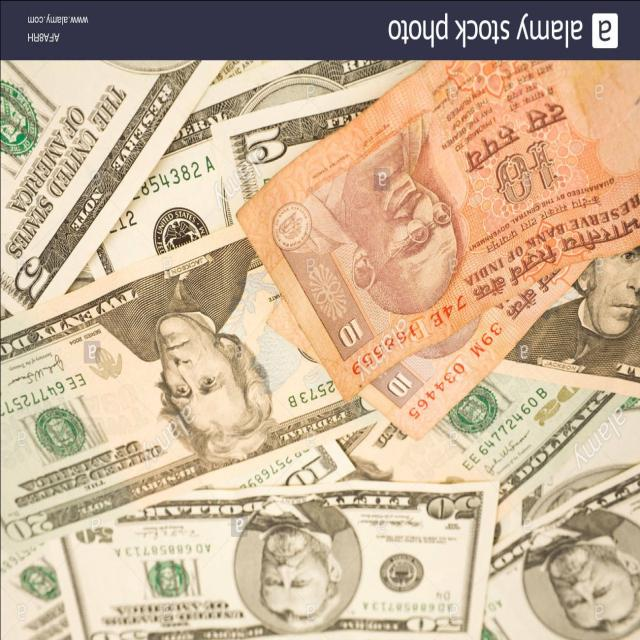10IndianRupees: (243, 62, 640, 378)
